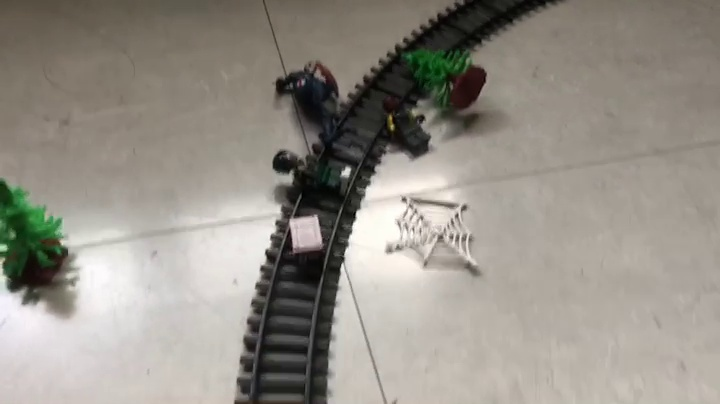box: (286, 214, 330, 277)
people: (275, 61, 352, 158), (273, 150, 357, 204), (380, 96, 432, 156)
tree: (1, 178, 72, 295), (400, 50, 488, 111)
web: (383, 194, 485, 275)
